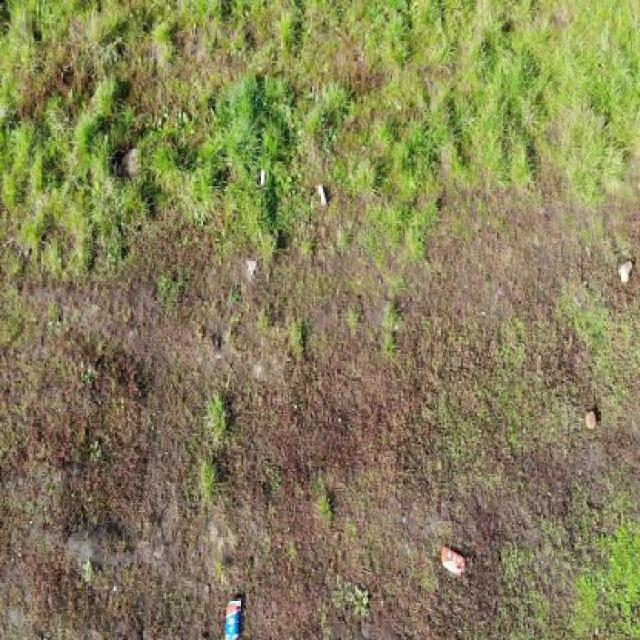Garbage: (442, 544, 467, 578), (226, 599, 242, 640), (316, 183, 327, 205), (259, 169, 266, 191)
